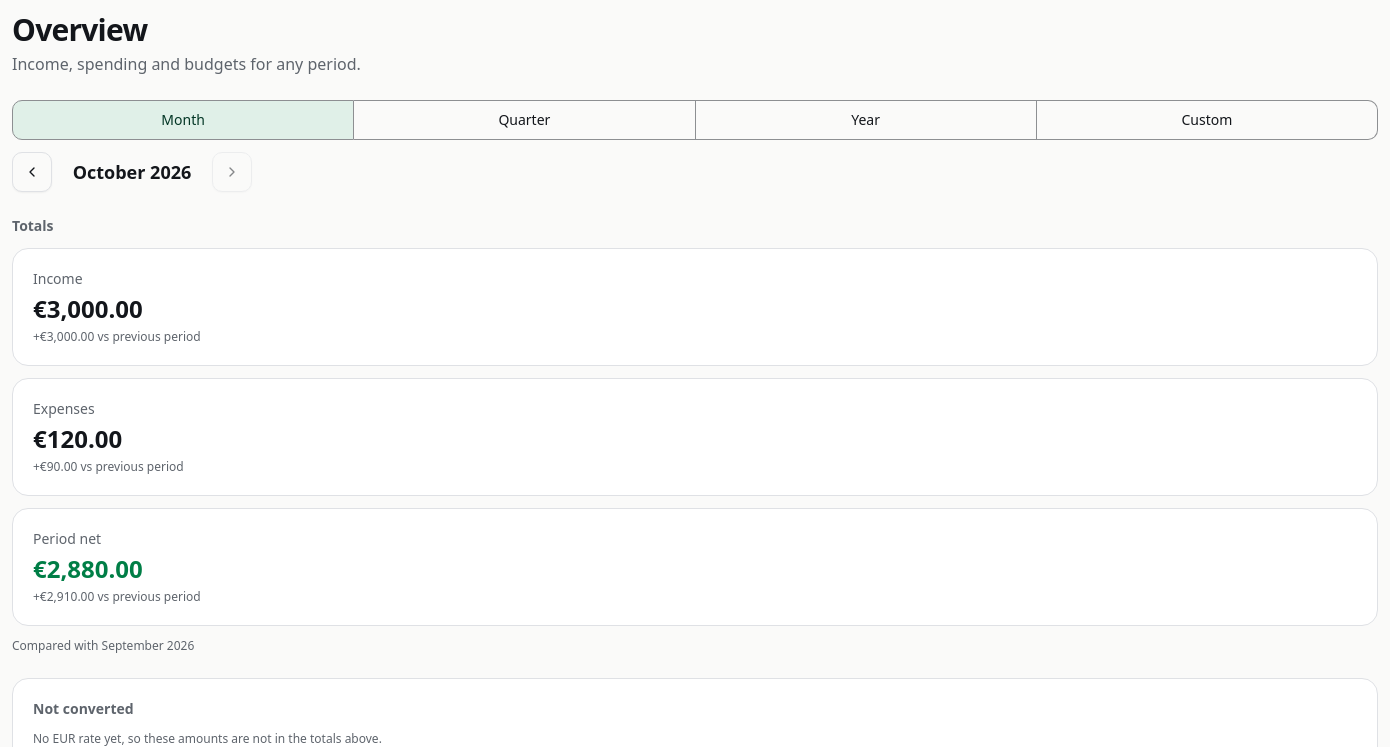
it: dashboard › asks for the quarter, steps back and refuses a reversed custom range
The image size is (1390, 747).
Check: the element "Totals" is shown, box [12,216,1378,654]
Check: the button named "Next period" is disabled, box [212,152,252,192]
Step 1. Click the radio button labelled "Quarter" → (525, 120), box [354,100,696,140]
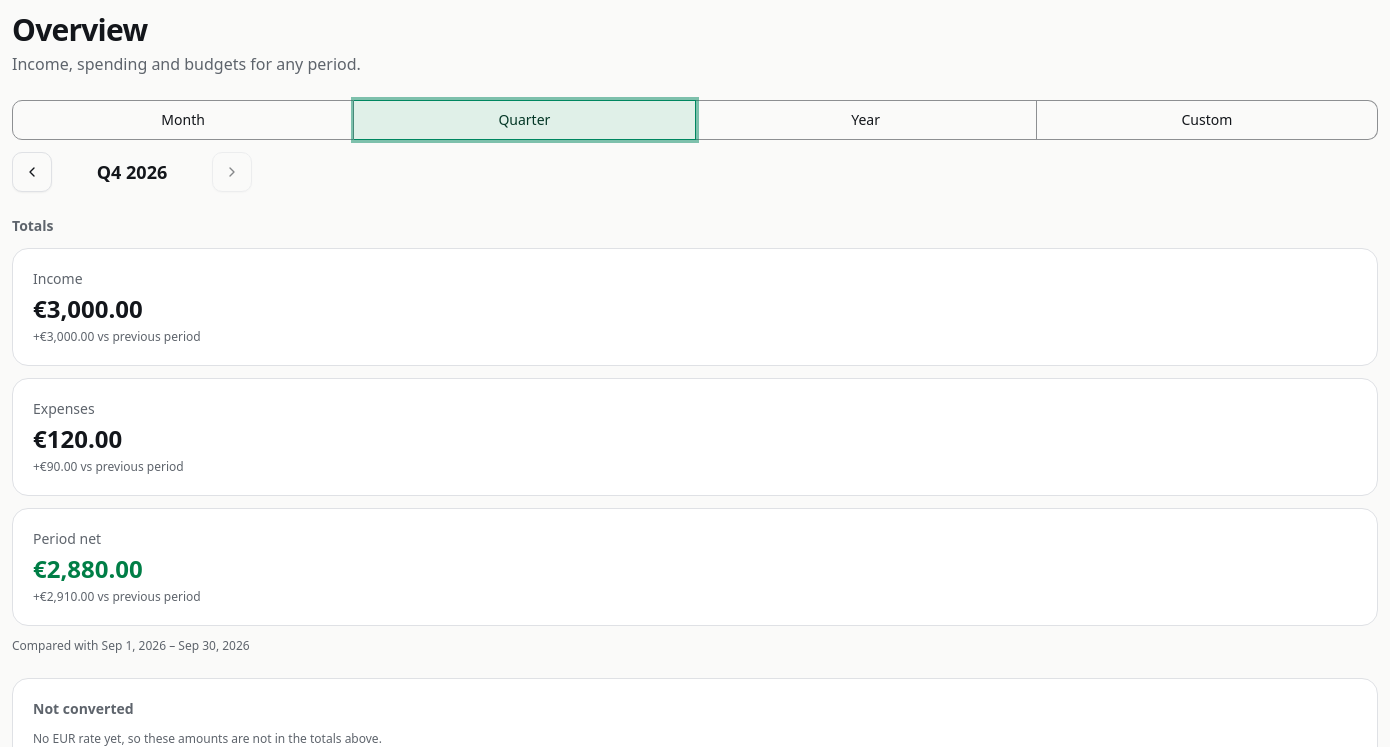
Step 2. Click the button named "Previous period" → (32, 172), box [12,152,52,192]
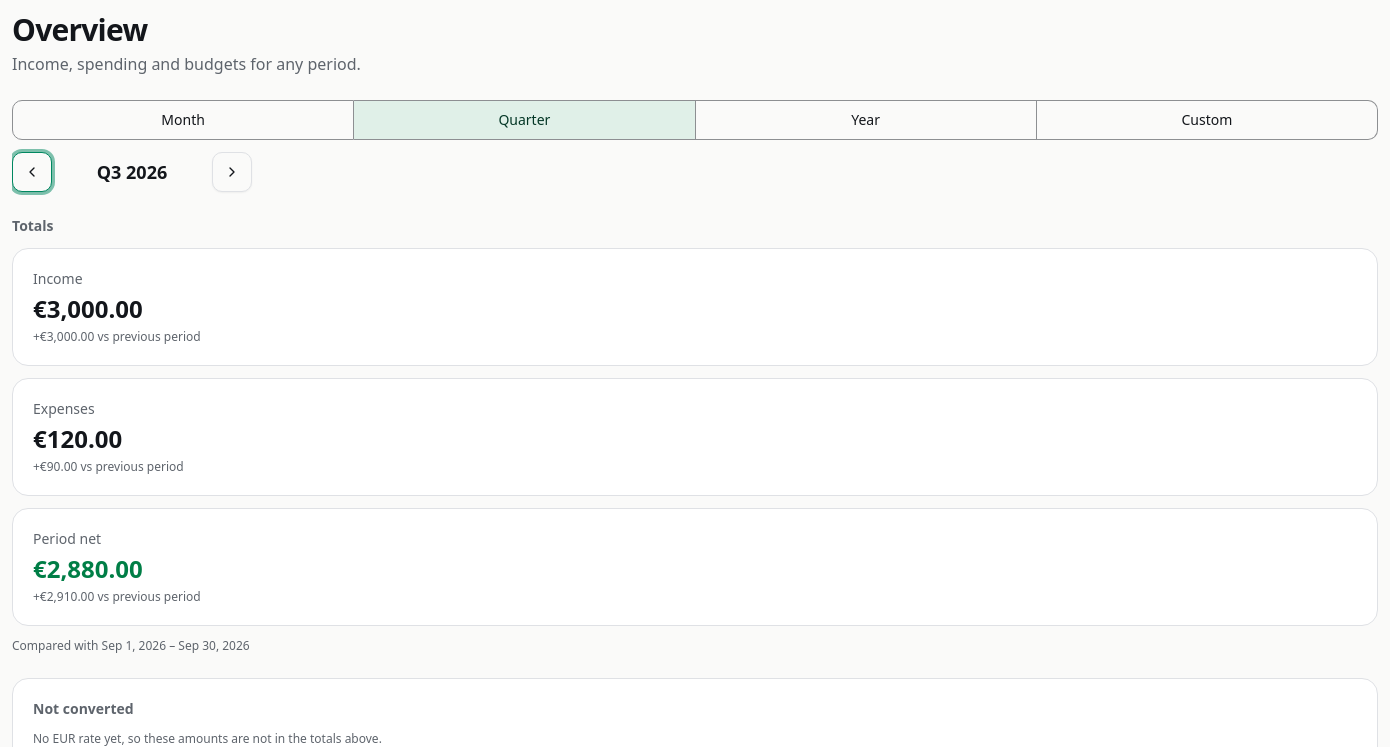
Step 3. Click the radio button labelled "Custom" → (1207, 120), box [1037,100,1378,140]
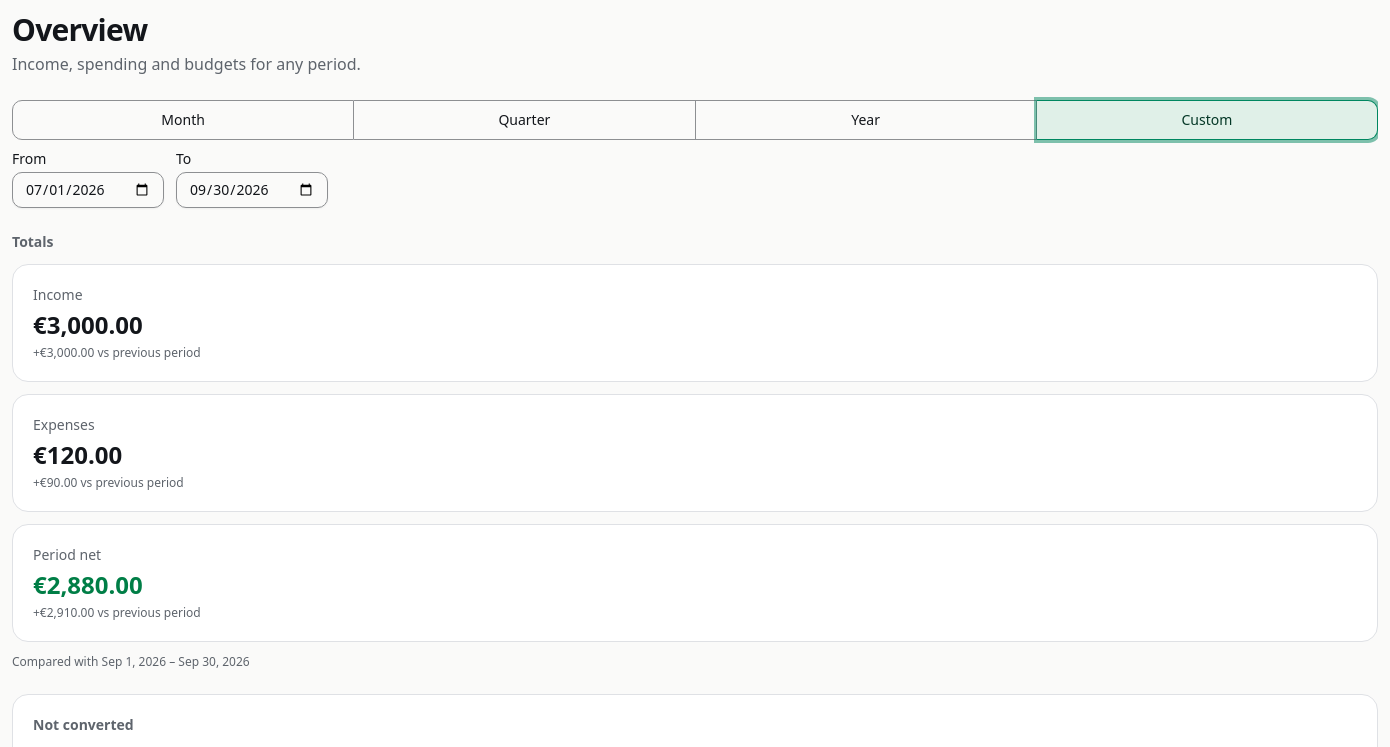
Step 4. Type "2000-01-01" into the date field labelled "To" → (252, 190), box [176,172,328,208]
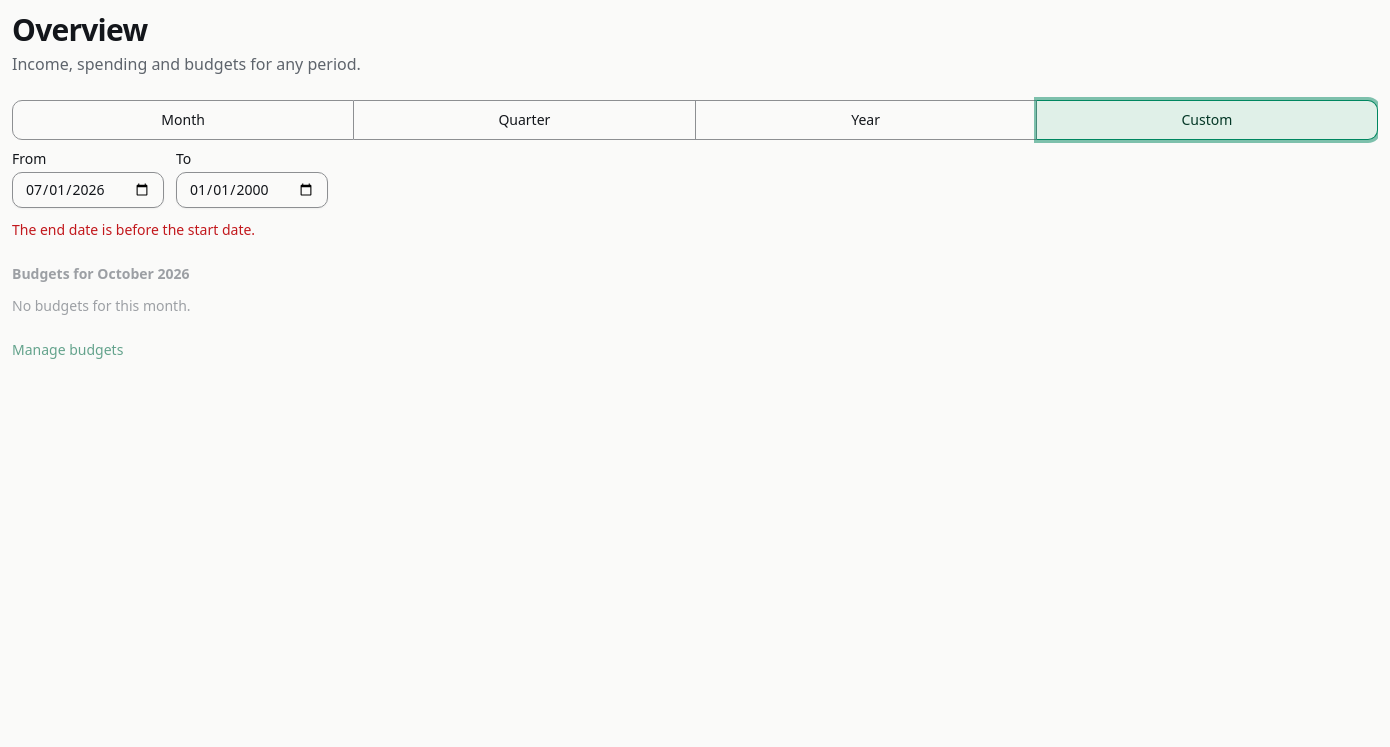
Check: the message reads "The end date is before the start date.", box [12,220,255,239]
Check: the heading "Totals" is gone
